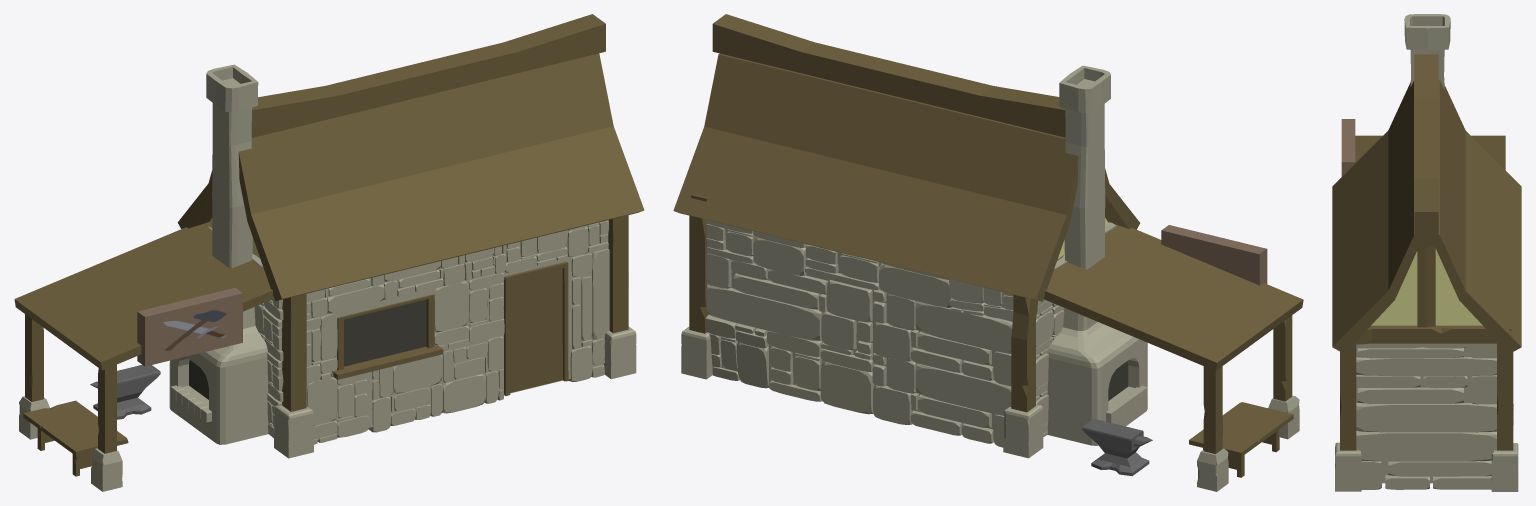
The model's file is blacksmith (1).fbx.
3 views of the same model, side by side, from view 1: azimuth 30°, elevation 25°; view 2: azimuth 150°, elevation 25°; view 3: azimuth 270°, elevation 25° (orthographic). The views are drawn at different scales.
Visible parts, largest first — view 1: Cube.007, Cube.002, Plane.002, Cube.006, Cube.005, Plane.001, Cube.009, Cube.008, Cube.003, Plane, Plane.003, Plane.006 (+3 smaller); view 2: Cube.007, Cube.002, Plane.002, Cube.006, Cube.005, Cube.008, Cube.003, Cube.009, Cube.001, Plane.006, Plane.005, Plane (+1 smaller); view 3: Cube.007, Cube.002, Cube.003, Cube.005, Plane.004, Cube.008, Cube.006, Plane.002, Cube.009, Plane.
Boxes of the visible parts, box(x1,y1,x2,y2) form: Cube.007: box(177, 53, 644, 301); Cube.002: box(208, 220, 609, 444); Plane.002: box(14, 222, 273, 370); Cube.006: box(169, 64, 268, 444); Cube.005: box(251, 14, 605, 137); Plane.001: box(332, 261, 568, 395); Cube.009: box(137, 287, 242, 366); Cube.008: box(19, 326, 636, 491); Cube.003: box(282, 215, 628, 411); Plane: box(306, 223, 608, 440); Plane.003: box(344, 299, 426, 366); Plane.006: box(23, 400, 128, 476); Cube.007: box(673, 53, 1140, 301); Cube.002: box(705, 220, 1116, 447); Plane.002: box(1044, 224, 1303, 370); Cube.006: box(1046, 65, 1147, 445); Cube.005: box(712, 14, 1065, 137); Cube.008: box(681, 327, 1299, 491); Cube.003: box(689, 194, 1109, 412); Cube.009: box(1161, 225, 1267, 285); Cube.001: box(1203, 315, 1292, 454); Plane.006: box(1189, 402, 1293, 477); Plane.005: box(1082, 418, 1152, 476); Plane: box(720, 228, 1012, 429); Cube.007: box(1332, 80, 1521, 353); Cube.002: box(1356, 343, 1513, 489); Cube.003: box(1340, 246, 1513, 450); Cube.005: box(1414, 54, 1438, 237); Plane.004: box(1371, 249, 1482, 325); Cube.008: box(1335, 442, 1518, 491); Cube.006: box(1404, 14, 1450, 89); Plane.002: box(1355, 135, 1505, 169); Cube.009: box(1341, 119, 1355, 176); Plane: box(1356, 343, 1470, 483).
Size of the model in its own units: 1209 by 732 by 398.
